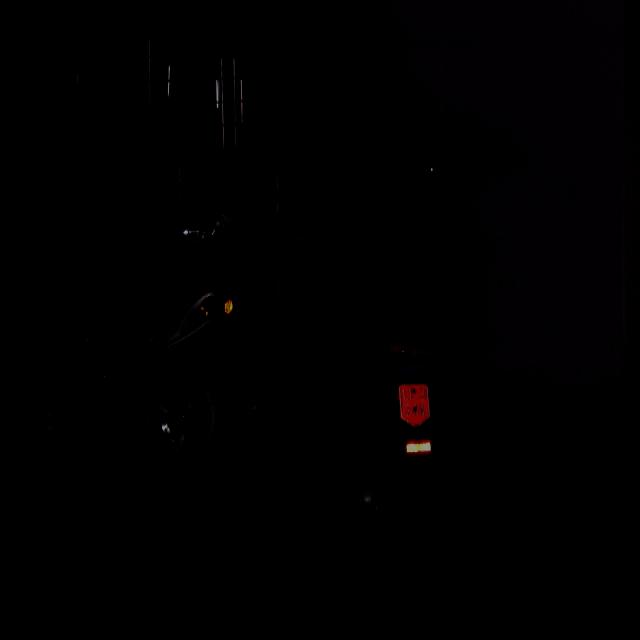Motorbike: (129, 105, 477, 548)
